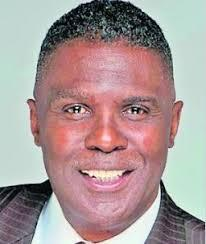normalEye: (55, 93, 165, 122)
normalMouth: (74, 160, 137, 197)
